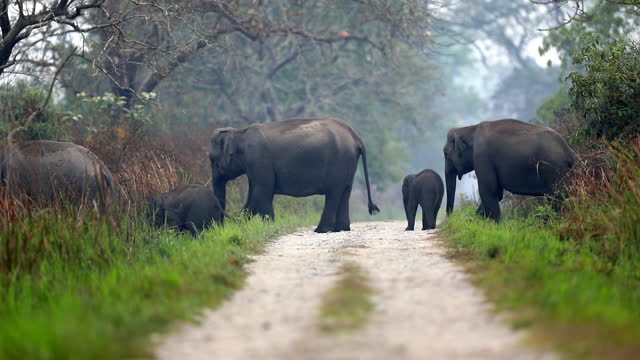Elephant: (138, 219, 574, 360), (212, 118, 356, 233), (443, 124, 584, 219), (4, 139, 125, 240), (147, 184, 215, 236), (401, 170, 445, 228)
